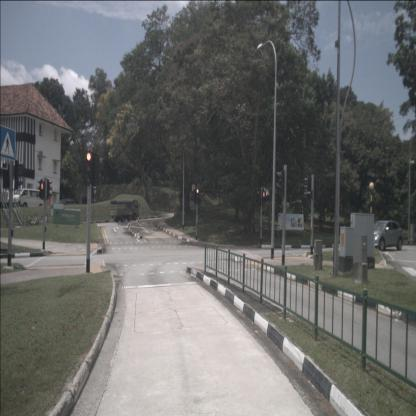vehicle-bicycle: (28, 213, 39, 227), (38, 213, 49, 226)
vehicle-car: (368, 220, 404, 251), (13, 189, 44, 209)
vehicle-truck: (109, 199, 139, 223)
